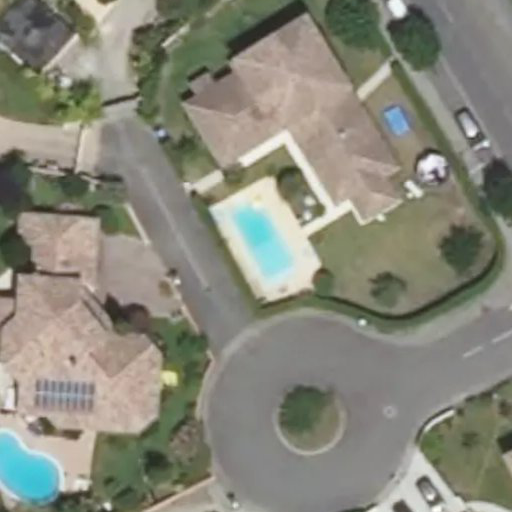pool: (218, 213, 293, 270)
